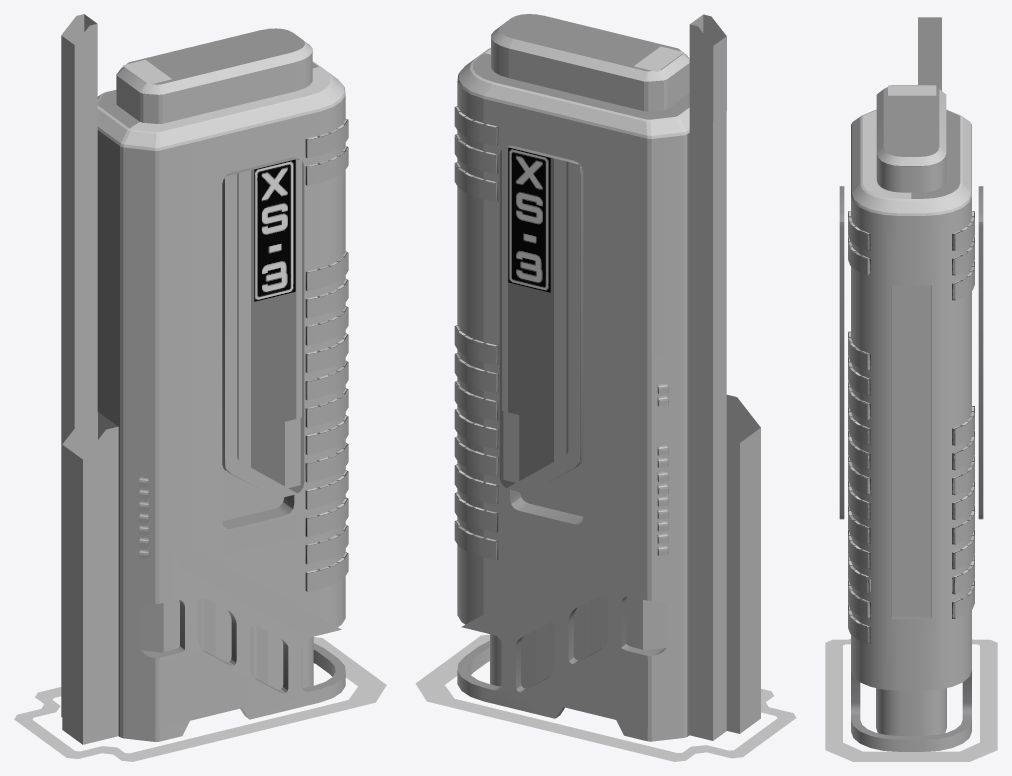
The model's file is Structure_03.fbx.
3 views of the same model, side by side, from view 1: azimuth 30°, elevation 25°; view 2: azimuth 150°, elevation 25°; view 3: azimuth 270°, elevation 25° (orthographic). The views are drawn at different scales.
Visible parts, largest first — view 1: Structure_03, Structure_03_Decal_Normal, Structure_03_Decal_Color, Structure_03_emission, Structure_03_Decal_Text, Structure_03_glass; view 2: Structure_03, Structure_03_Decal_Normal, Structure_03_Decal_Color, Structure_03_emission, Structure_03_Decal_Text, Structure_03_glass; view 3: Structure_03, Structure_03_Decal_Color, Structure_03_Decal_Normal, Structure_03_emission, Structure_03_glass.
Part boxes in pixels (left/top/right/bottom): Structure_03: left=97, top=28, right=345, bottom=741; Structure_03_Decal_Normal: left=14, top=28, right=386, bottom=761; Structure_03_Decal_Color: left=61, top=14, right=299, bottom=744; Structure_03_emission: left=139, top=120, right=348, bottom=687; Structure_03_Decal_Text: left=254, top=159, right=295, bottom=301; Structure_03_glass: left=139, top=119, right=348, bottom=591; Structure_03: left=457, top=14, right=689, bottom=741; Structure_03_Decal_Normal: left=415, top=14, right=796, bottom=761; Structure_03_Decal_Color: left=504, top=14, right=760, bottom=740; Structure_03_emission: left=454, top=108, right=667, bottom=686; Structure_03_Decal_Text: left=508, top=147, right=550, bottom=292; Structure_03_glass: left=454, top=106, right=668, bottom=560; Structure_03: left=839, top=85, right=983, bottom=751; Structure_03_Decal_Color: left=888, top=17, right=941, bottom=616; Structure_03_Decal_Normal: left=825, top=89, right=997, bottom=761; Structure_03_emission: left=848, top=219, right=974, bottom=643; Structure_03_glass: left=848, top=211, right=974, bottom=643.
Size of what is drawn, in the model's own units: 10.92 by 23.11 by 5.7.
